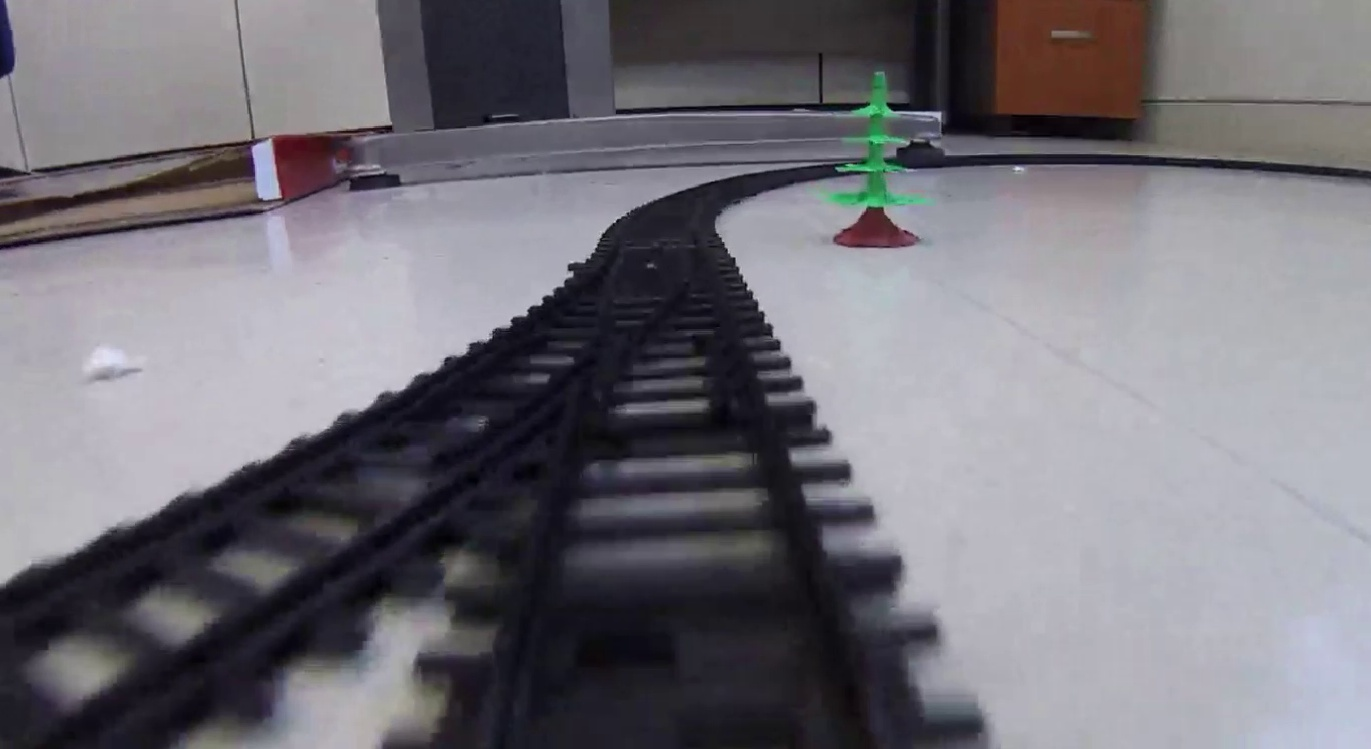tree: (823, 68, 926, 248)
